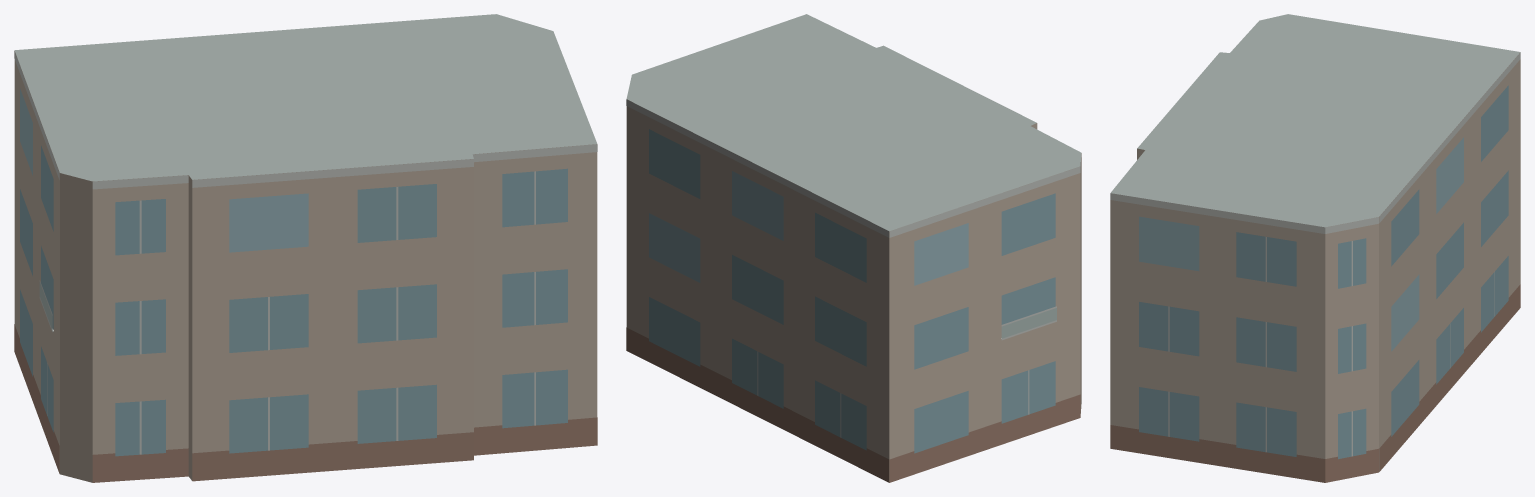
File: survey-upis-32697559.glb
The picture shows the model from 3 angles, left to right: view 1: azimuth 30°, elevation 25°; view 2: azimuth 150°, elevation 25°; view 3: azimuth 270°, elevation 25°; orthographic projection. The views are drawn at different scales.
Parts seen in each view (by area): view 1: survey-upis-32697559.tmp; view 2: survey-upis-32697559.tmp; view 3: survey-upis-32697559.tmp.
Boxes of the visible parts, left/top/right/bottom form: survey-upis-32697559.tmp: left=14, top=14, right=597, bottom=482; survey-upis-32697559.tmp: left=626, top=14, right=1081, bottom=482; survey-upis-32697559.tmp: left=1110, top=14, right=1520, bottom=482.
Size of the model in its own units: 16.39 by 9.15 by 13.33.
